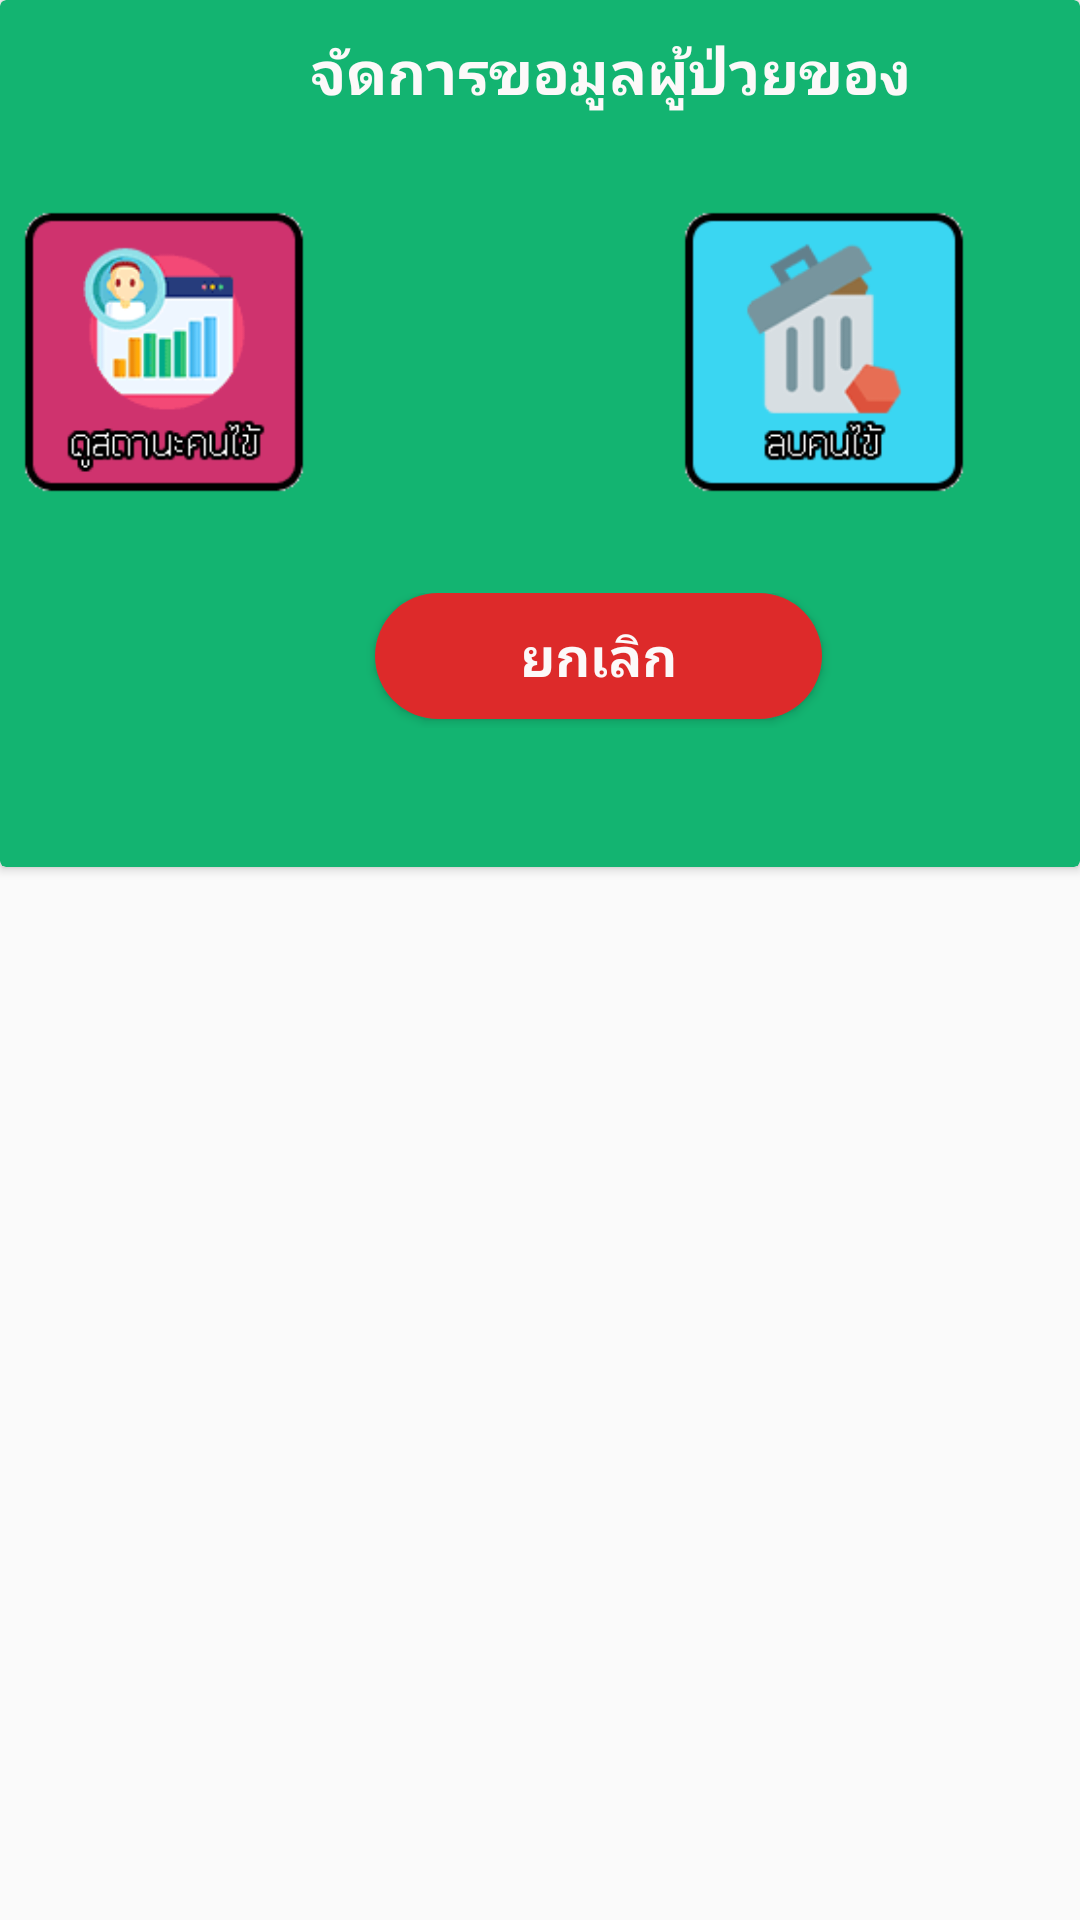

Screen size 1080×1920. Icon name, then its box in pixels as (x1, y1, x2, y2):
usrealtime: (25, 213, 304, 492)
